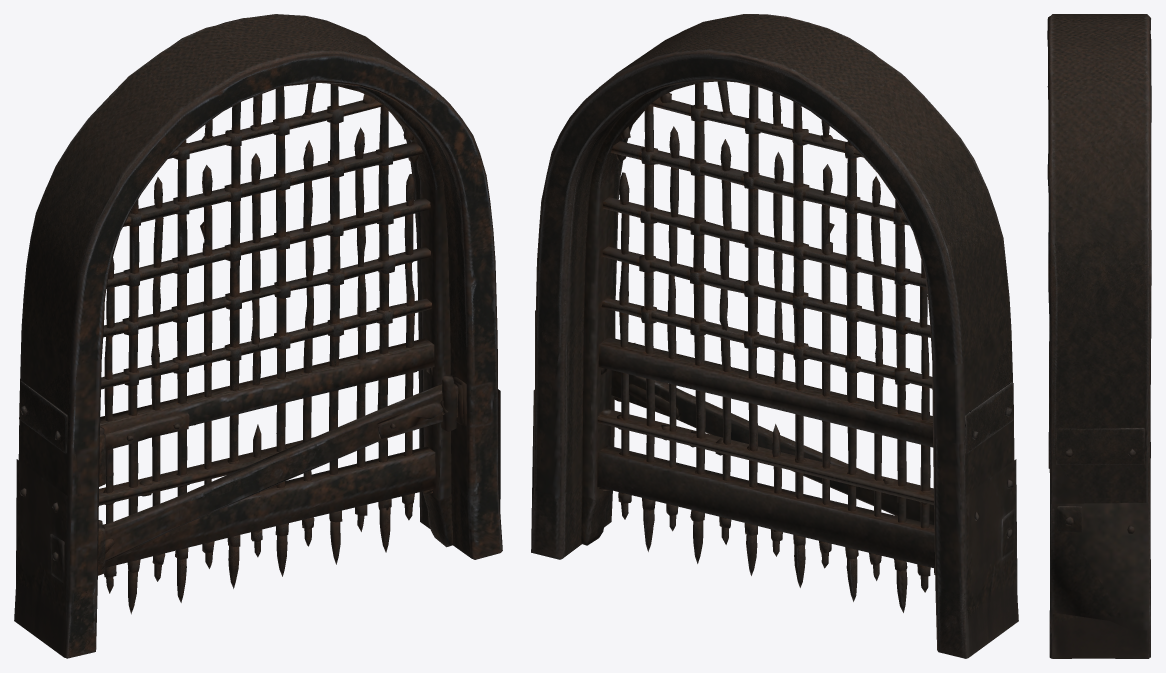
File: Meshy_AI_a_portcullis_0903105915_texture.glb
3 renders of one model, left to right at view 1: azimuth 30°, elevation 25°; view 2: azimuth 150°, elevation 25°; view 3: azimuth 270°, elevation 25°, orthographic. The views are drawn at different scales.
Parts seen in each view (by area): view 1: mesh_node; view 2: mesh_node; view 3: mesh_node.
Part boxes in pixels (left/top/right/bottom): mesh_node: left=14, top=14, right=502, bottom=658; mesh_node: left=531, top=14, right=1018, bottom=658; mesh_node: left=1047, top=14, right=1151, bottom=658.
Size of the model in its own units: 0.8457 by 1 by 0.1812.
Materials: 1 (1 with a texture image).
